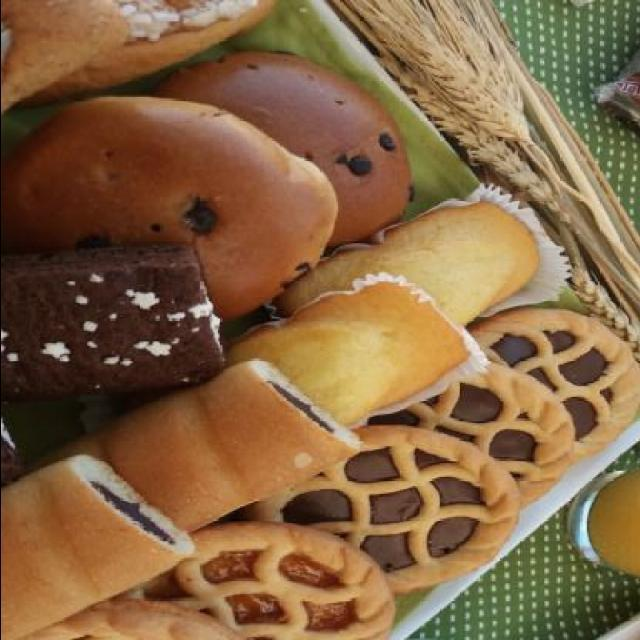Merendine packaged: (42, 360, 350, 554), (1, 96, 324, 252), (153, 50, 410, 242), (268, 181, 556, 350), (198, 277, 484, 441), (249, 426, 520, 598), (253, 432, 519, 598), (0, 442, 191, 636), (356, 358, 574, 512), (1, 243, 218, 392), (451, 306, 640, 466), (175, 528, 411, 638)
